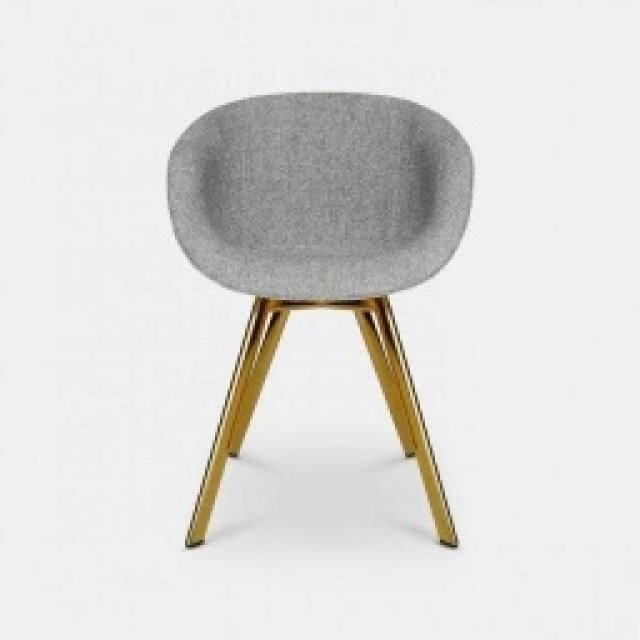sandalye: (162, 88, 476, 550)
